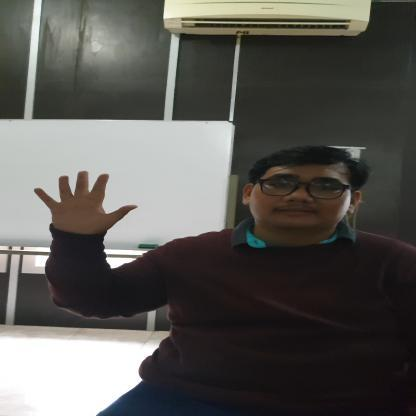Halo: (30, 167, 140, 238)
